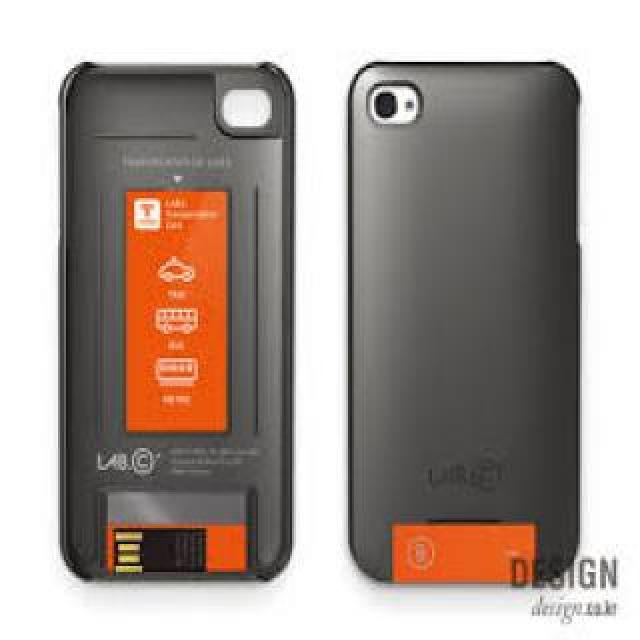smart phone: (330, 43, 608, 602), (48, 48, 315, 602)
